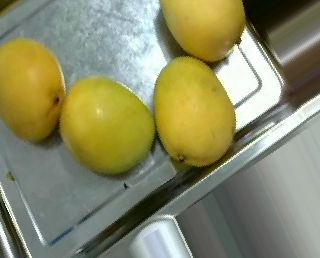Mango: (58, 77, 155, 172), (155, 57, 234, 168), (0, 40, 64, 144), (159, 0, 245, 63)
